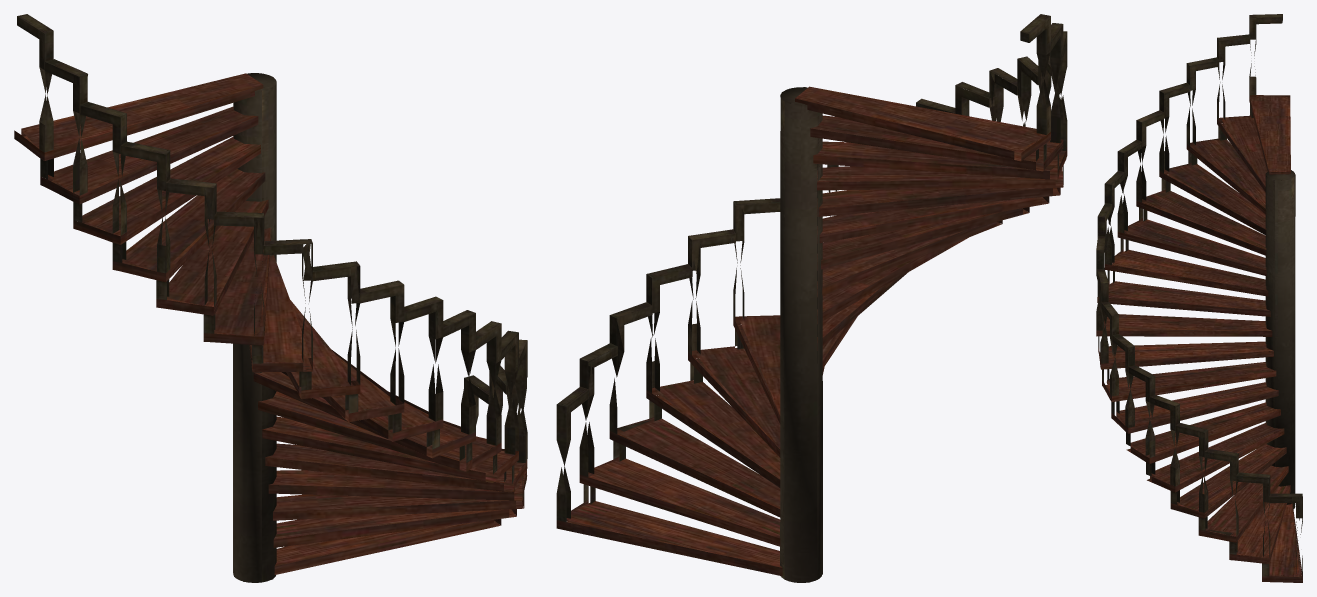
The model's file is stairs-1.glb.
3 renders of one model, left to right at view 1: azimuth 30°, elevation 25°; view 2: azimuth 150°, elevation 25°; view 3: azimuth 270°, elevation 25°, orthographic. The views are drawn at different scales.
Visible parts, largest first — view 1: Object_3, Object_2, Object_4; view 2: Object_3, Object_4, Object_2; view 3: Object_3, Object_2, Object_4.
Part boxes in pixels (box(x1,y1,x2,y2)): Object_3: box(14, 73, 527, 574); Object_2: box(17, 14, 527, 499); Object_4: box(233, 73, 276, 582); Object_3: box(556, 86, 1067, 576); Object_4: box(780, 87, 822, 582); Object_2: box(556, 14, 1067, 521); Object_3: box(1096, 95, 1302, 582); Object_2: box(1096, 14, 1302, 576); Object_4: box(1265, 170, 1295, 509).
Bounding box in the file's own units: 6.58 × 8.17 × 3.69.
Materials: 3 (3 with a texture image).
